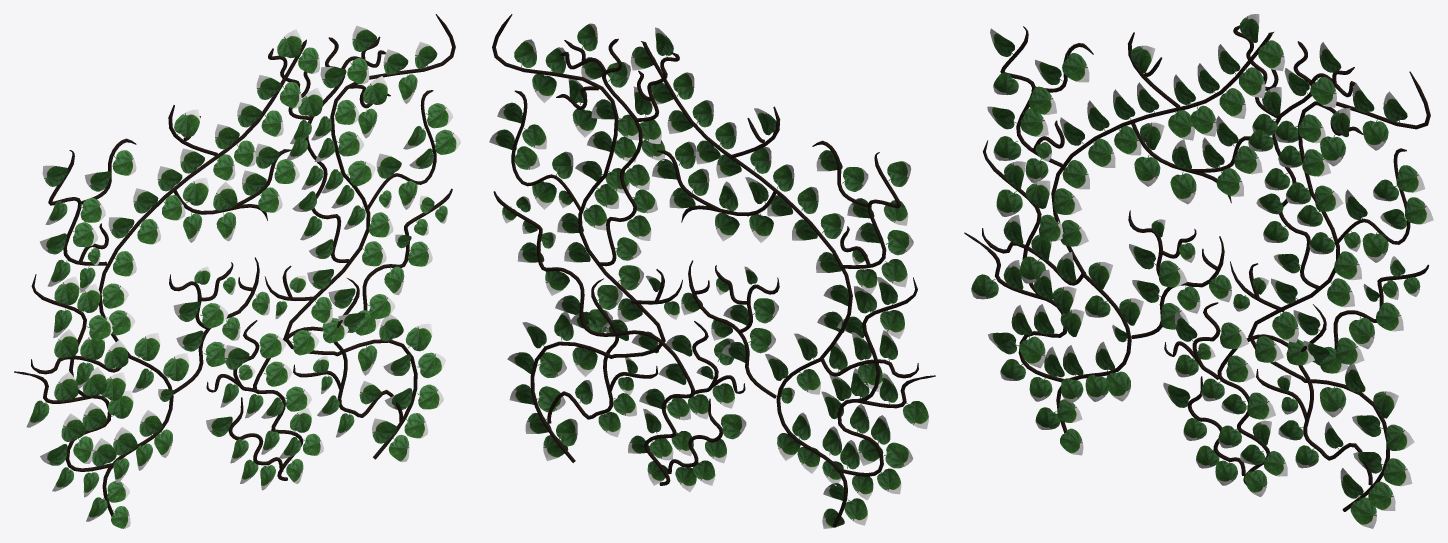
File: vines.obj
The picture shows the model from 3 angles, left to right: view 1: azimuth 30°, elevation 25°; view 2: azimuth 150°, elevation 25°; view 3: azimuth 330°, elevation 25°; orthographic projection. The views are drawn at different scales.
Parts seen in each view (by area): view 1: Line006, Line003, Line027, Line019, Line013, Line031, Line020, Line002, Line009, Plane049, Plane047, Plane074 (+21 smaller); view 2: Line006, Line003, Line027, Line019, Line013, Line031, Line020, Line009, Line002, Line030, Plane009, Plane022 (+9 smaller); view 3: Line006, Line003, Line027, Line013, Line019, Line031, Line020, Line002, Plane017, Plane143, Plane103, Plane066 (+47 smaller).
Boxes of the visible parts, x1,y1,x2,y2 form: Line006: [283, 14, 455, 459]; Line003: [98, 39, 306, 516]; Line027: [253, 188, 452, 480]; Line019: [31, 274, 111, 471]; Line013: [305, 37, 349, 262]; Line031: [334, 278, 402, 421]; Line020: [48, 150, 106, 265]; Line002: [365, 90, 436, 211]; Line009: [173, 257, 259, 394]; Plane049: [163, 353, 189, 381]; Plane047: [134, 333, 160, 360]; Plane074: [174, 109, 200, 137]; Line006: [492, 14, 665, 462]; Line003: [641, 41, 852, 527]; Line027: [493, 191, 694, 485]; Line019: [836, 277, 917, 476]; Line013: [597, 38, 642, 266]; Line031: [547, 278, 618, 423]; Line020: [842, 152, 901, 268]; Line009: [688, 260, 776, 398]; Line002: [511, 90, 582, 212]; Line030: [668, 398, 722, 473]; Plane009: [883, 442, 913, 468]; Plane022: [903, 401, 928, 429]; Line006: [1248, 71, 1430, 511]; Line003: [1051, 31, 1274, 433]; Line027: [1217, 264, 1429, 485]; Line013: [1272, 41, 1319, 288]; Line019: [983, 140, 1066, 382]; Line031: [1298, 304, 1372, 485]; Line020: [1000, 26, 1062, 166]; Line002: [1334, 148, 1410, 244]; Plane017: [1019, 336, 1045, 368]; Plane143: [1320, 386, 1346, 417]; Plane103: [1272, 311, 1298, 342]; Plane066: [1258, 40, 1284, 71].
Size of the model in its own units: 3.49 by 3.44 by 0.1543.
Materials: 2 (1 with a texture image).
